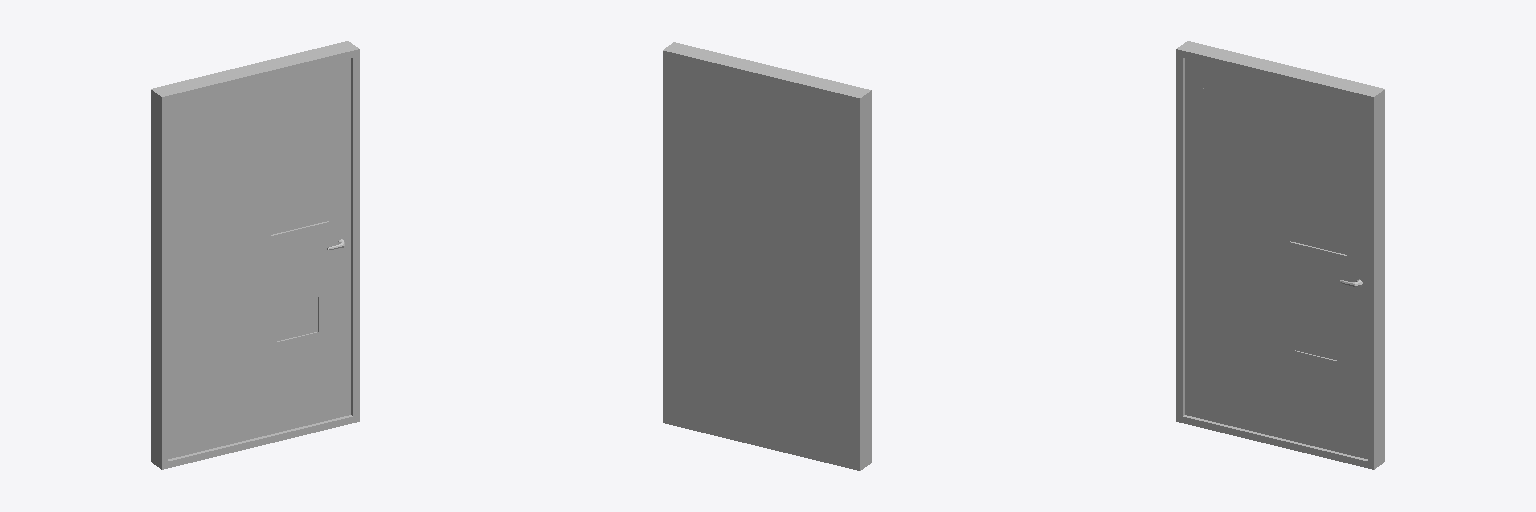
Rendered from Blue Door.obj.
3 views of the same model, side by side, from view 1: azimuth 30°, elevation 25°; view 2: azimuth 150°, elevation 25°; view 3: azimuth 330°, elevation 25° (orthographic).
Parts seen in each view (by area): view 1: Blue_Door_Cube; view 2: Blue_Door_Cube; view 3: Blue_Door_Cube.
Boxes of the visible parts, <box> form: Blue_Door_Cube: <box>151,41,359,469</box>; Blue_Door_Cube: <box>663,42,871,470</box>; Blue_Door_Cube: <box>1176,41,1384,469</box>.
Size of the model in its own units: 2 by 3.6 by 0.2295.